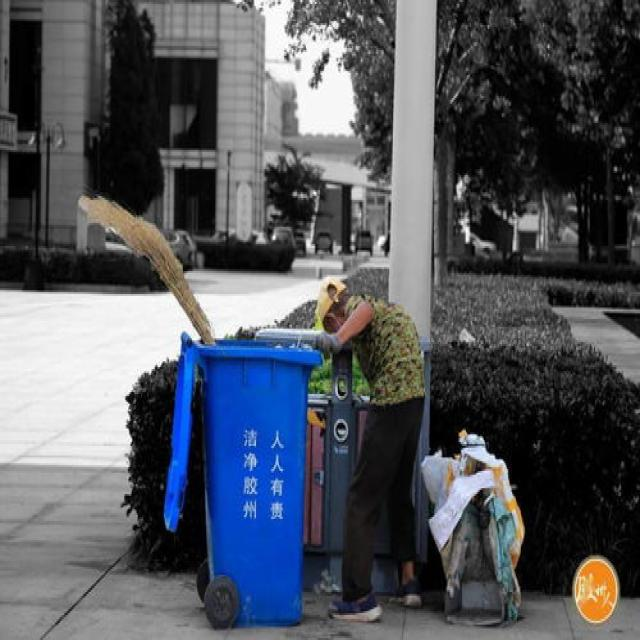garbage_bin: (198, 336, 322, 626)
